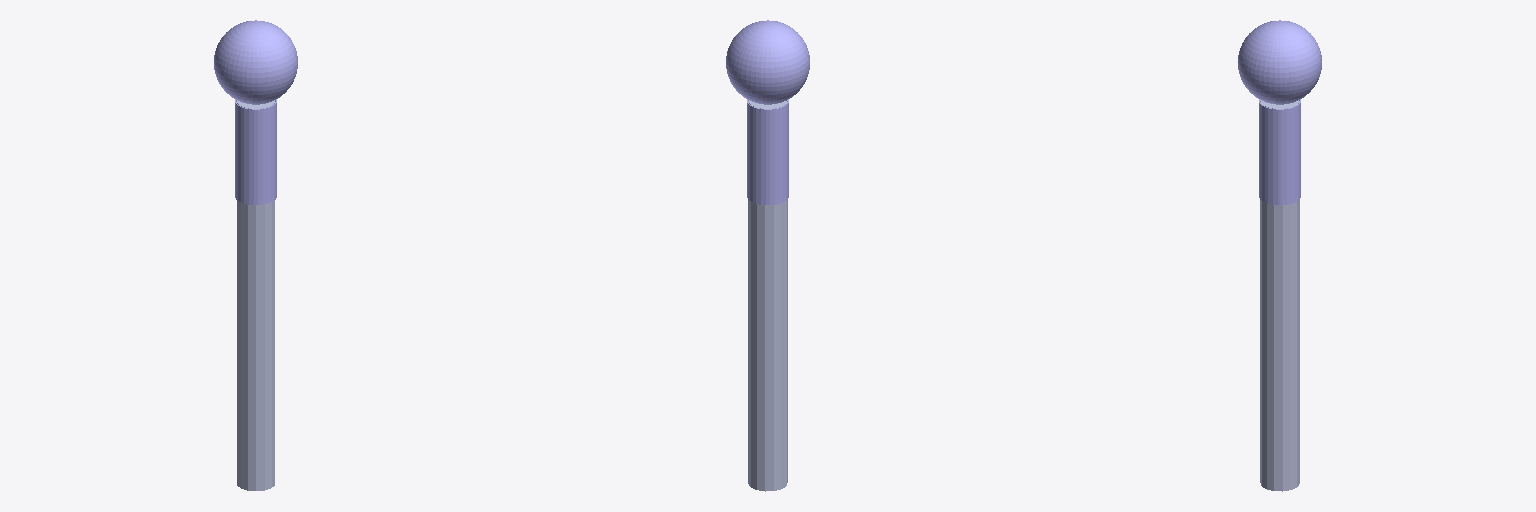
URDF robot description (SLIP_Robot):
<?xml version="1.0" encoding="utf-8"?>
<!-- This URDF was automatically created by SolidWorks to URDF Exporter! Originally created by [author] ([email redacted]) 
     Commit Version: 1.6.0-4-g7f85cfe  Build Version: 1.6.7995.38578
     For more information, please see http://wiki.ros.org/sw_urdf_exporter -->
<robot
  name="SLIP_Robot">
  <link
    name="base_link">
    <inertial>
      <origin
        xyz="6.9389E-18 0 0"
        rpy="0 0 0" />
      <mass
        value="0.5" />
      <inertia
        ixx="0.58215"
        ixy="4.941E-20"
        ixz="-3.3881E-19"
        iyy="0.58215"
        iyz="-7.228E-18"
        izz="0.007665" />
    </inertial>
    <visual>
      <origin
        xyz="0 0 0"
        rpy="0 0 0" />
      <geometry>
        <mesh
          filename="meshes\base_link.STL" />
      </geometry>
      <material
        name="">
        <color
          rgba="0.79216 0.81961 0.93333 1" />
      </material>
    </visual>
    <collision>
      <origin
        xyz="0 0 0"
        rpy="0 0 0" />
      <geometry>
        <mesh
          filename="meshes\base_link.STL" />
      </geometry>
    </collision>
  </link>
  <link
    name="mass_Link">
    <inertial>
      <origin
        xyz="0 0 -0.011641"
        rpy="0 0 0" />
      <mass
        value="1.5" />
      <inertia
        ixx="0.018215"
        ixy="1.4637E-35"
        ixz="-1.8876E-34"
        iyy="0.018215"
        iyz="-4.4669E-35"
        izz="0.017293" />
    </inertial>
    <visual>
      <origin
        xyz="0 0 0"
        rpy="0 0 0" />
      <geometry>
        <mesh
          filename="meshes\mass_Link.STL" />
      </geometry>
      <material
        name="">
        <color
          rgba="0.75294 0.75294 1 1" />
      </material>
    </visual>
    <collision>
      <origin
        xyz="0 0 0"
        rpy="0 0 0" />
      <geometry>
        <mesh
          filename="meshes\mass_Link.STL" />
      </geometry>
    </collision>
  </link>
  <joint
    name="mass_joint"
    type="prismatic">
    <origin
      xyz="0 0 1.1"
      rpy="0 0 0" />
    <parent
      link="base_link" />
    <child
      link="mass_Link" />
    <axis
      xyz="0 0 -1" />
    <limit
      lower="0"
      upper="1"
      effort="0"
      velocity="0" />
  </joint>
</robot>

--- Facts derived from the render (not from the file) ---
3 views of the same robot in one strip: view 1: azimuth 30°, elevation 25°; view 2: azimuth 150°, elevation 25°; view 3: azimuth 270°, elevation 25° (orthographic).
Robot: SLIP_Robot — 2 links, 1 joints (1 prismatic); root link base_link; default pose: all joints at 0.
Visible links, largest first — view 1: base_link, mass_Link; view 2: base_link, mass_Link; view 3: base_link, mass_Link.
Link boxes in pixels (x1=…): base_link: x1=237, y1=100, x2=274, y2=490; mass_Link: x1=214, y1=20, x2=297, y2=204; base_link: x1=748, y1=100, x2=787, y2=491; mass_Link: x1=726, y1=20, x2=809, y2=204; base_link: x1=1260, y1=100, x2=1299, y2=491; mass_Link: x1=1238, y1=20, x2=1321, y2=204.
Bounding box of the posed robot: 0.1994 × 0.1995 × 1.2 m (x, y, z).
Meshes: 2 distinct files referenced, 2 mesh visuals loaded (2 binary STL).